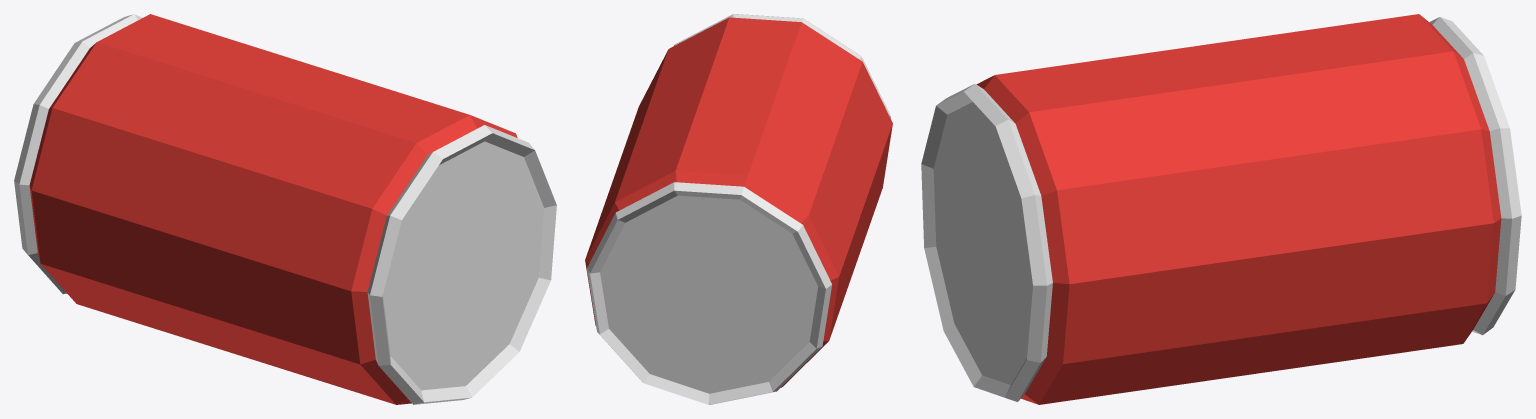
Rendered from Kola 2.fbx.
3 views of the same model, side by side, from view 1: azimuth 30°, elevation 25°; view 2: azimuth 150°, elevation 25°; view 3: azimuth 270°, elevation 25° (orthographic). The views are drawn at different scales.
Visible parts, largest first — view 1: Cylinder; view 2: Cylinder; view 3: Cylinder.
Part boxes in pixels (x1,y1,x2,y2): Cylinder: (14, 14, 556, 404); Cylinder: (585, 14, 892, 404); Cylinder: (921, 14, 1521, 404).
Bounding box in the file's own units: 81.41 × 57.48 × 102.
